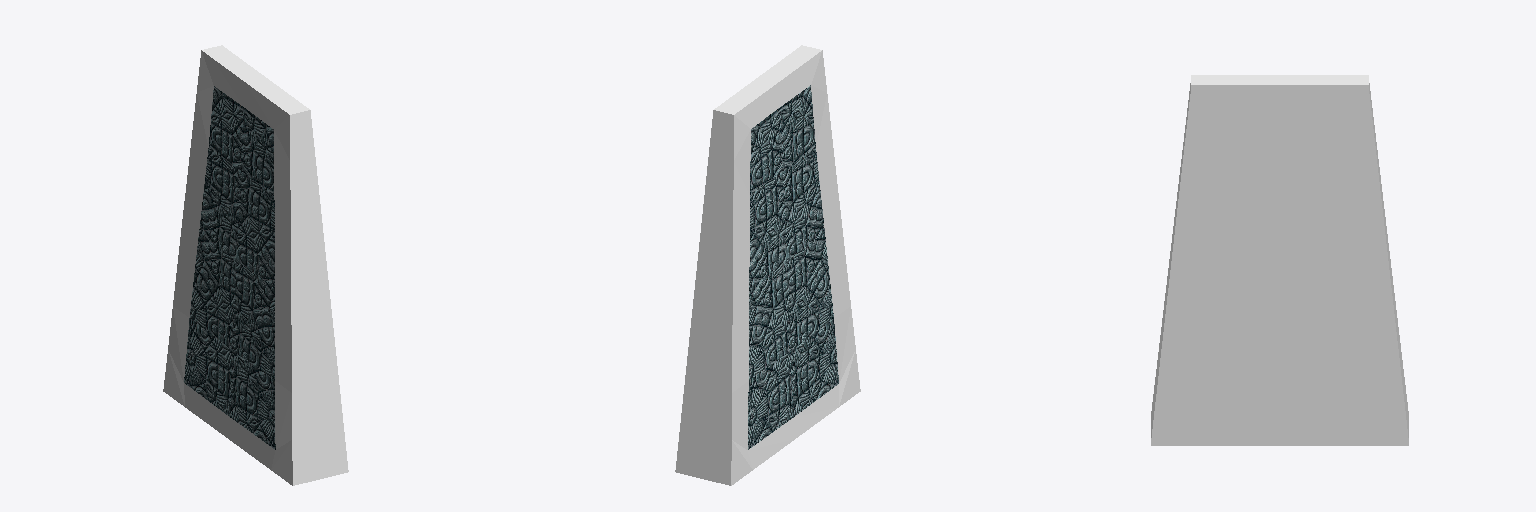
3 views of the same model, side by side, from view 1: azimuth 30°, elevation 25°; view 2: azimuth 150°, elevation 25°; view 3: azimuth 270°, elevation 25° (orthographic).
Visible parts, largest first — view 1: Gate_Door; view 2: Gate_Door; view 3: Gate_Door.
Part boxes in pixels (left/top/right/bottom): Gate_Door: left=163, top=45, right=348, bottom=485; Gate_Door: left=675, top=45, right=860, bottom=485; Gate_Door: left=1151, top=75, right=1408, bottom=445.
Size of the model in its own units: 0.5 by 3 by 2.
Materials: 3 (1 with a texture image).